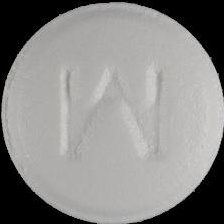0378-0505: (0, 0, 224, 224)
